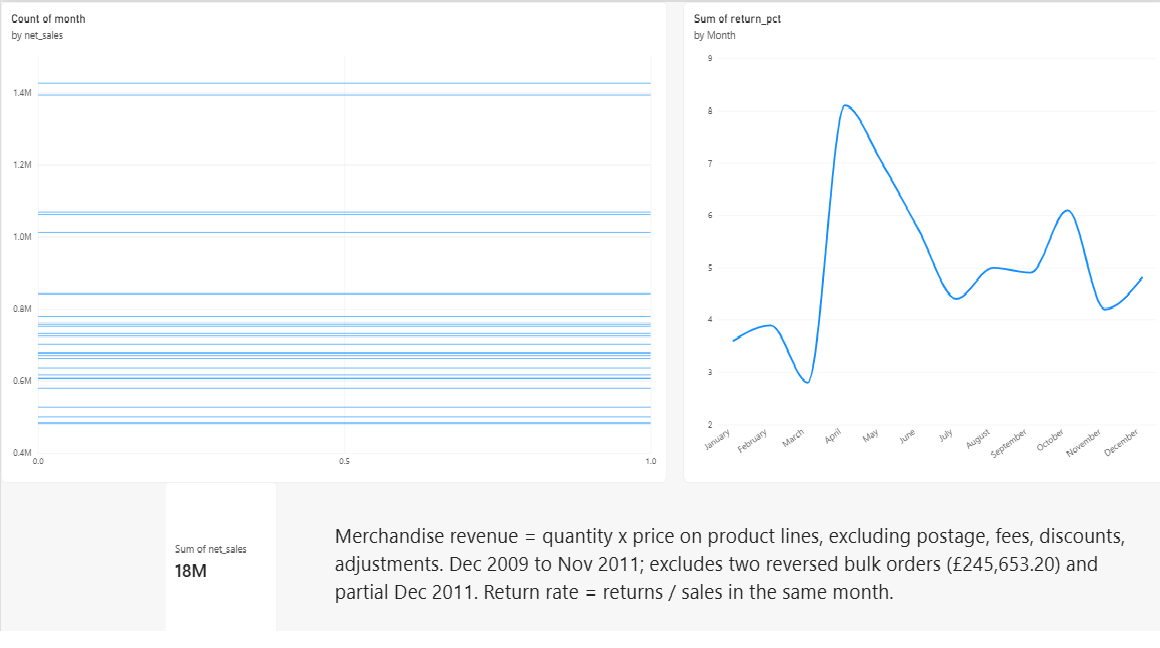

What the dashboard file says about the page in this screenshot:
{"tool":"powerbi","page":{"name":"Sales and returns","canvas":[1920,1080],"ordinal":0},"visuals":[{"type":"clusteredBarChart","fields":{"Category":["monthly_summary.net_sales"],"Y":["CountNonNull(monthly_summary.month)"]},"box":[0,0,1097.1,734.8],"z":0},{"type":"lineChart","fields":{"Category":["monthly_summary.month.Variation.Date Hierarchy.Month"],"Y":["Sum(monthly_summary.return_pct)"]},"box":[1123.8,0,796.6,734.8],"z":1000},{"type":"cardVisual","fields":{"Data":["Sum(monthly_summary.net_sales)"]},"box":[269.6,734.8,185.2,244.9],"z":2000},{"type":"textbox","box":[549.7,794.2,1352.8,136.9],"z":3000}]}

Visuals, with their boxes in screenshot pixels (x1, y1, x2, y2), scaled from the page's 1920x1080 canvas onto the 1160x648 screenshot:
clusteredBarChart - monthly_summary.net_sales x CountNonNull(monthly_summary.month): 0 0 663 441
lineChart - monthly_summary.month.Variation.Date Hierarchy.Month x Sum(monthly_summary.return_pct): 679 0 1159 441
cardVisual - Sum(monthly_summary.net_sales): 163 441 275 588
textbox: 332 477 1149 559
